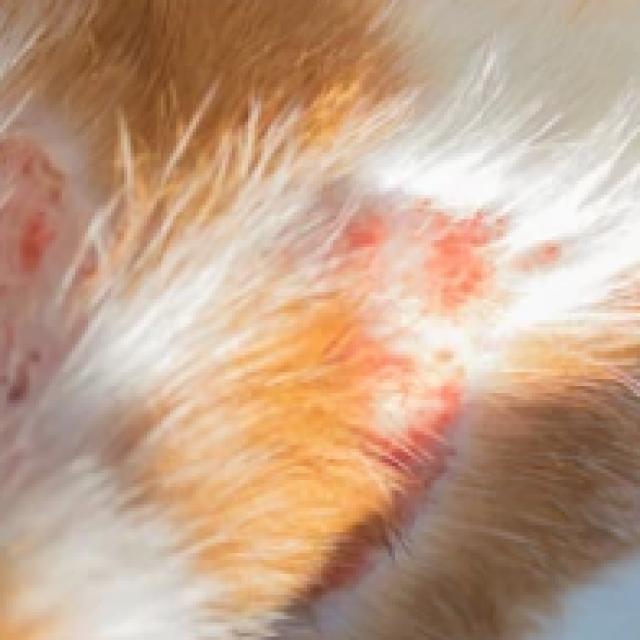hac lao: (286, 140, 548, 386)
